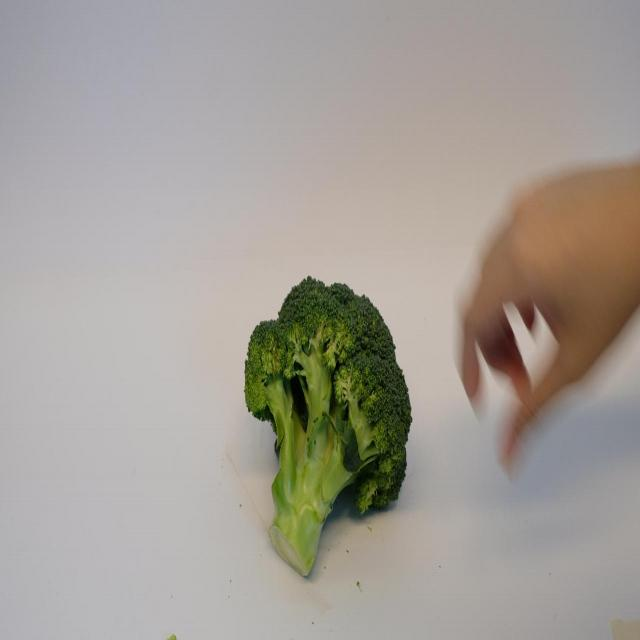broccoli: (237, 278, 412, 576)
